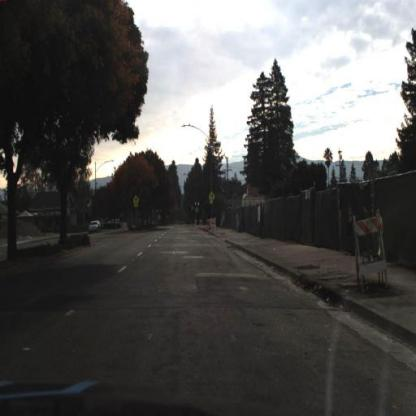car: (91, 221, 102, 233)
